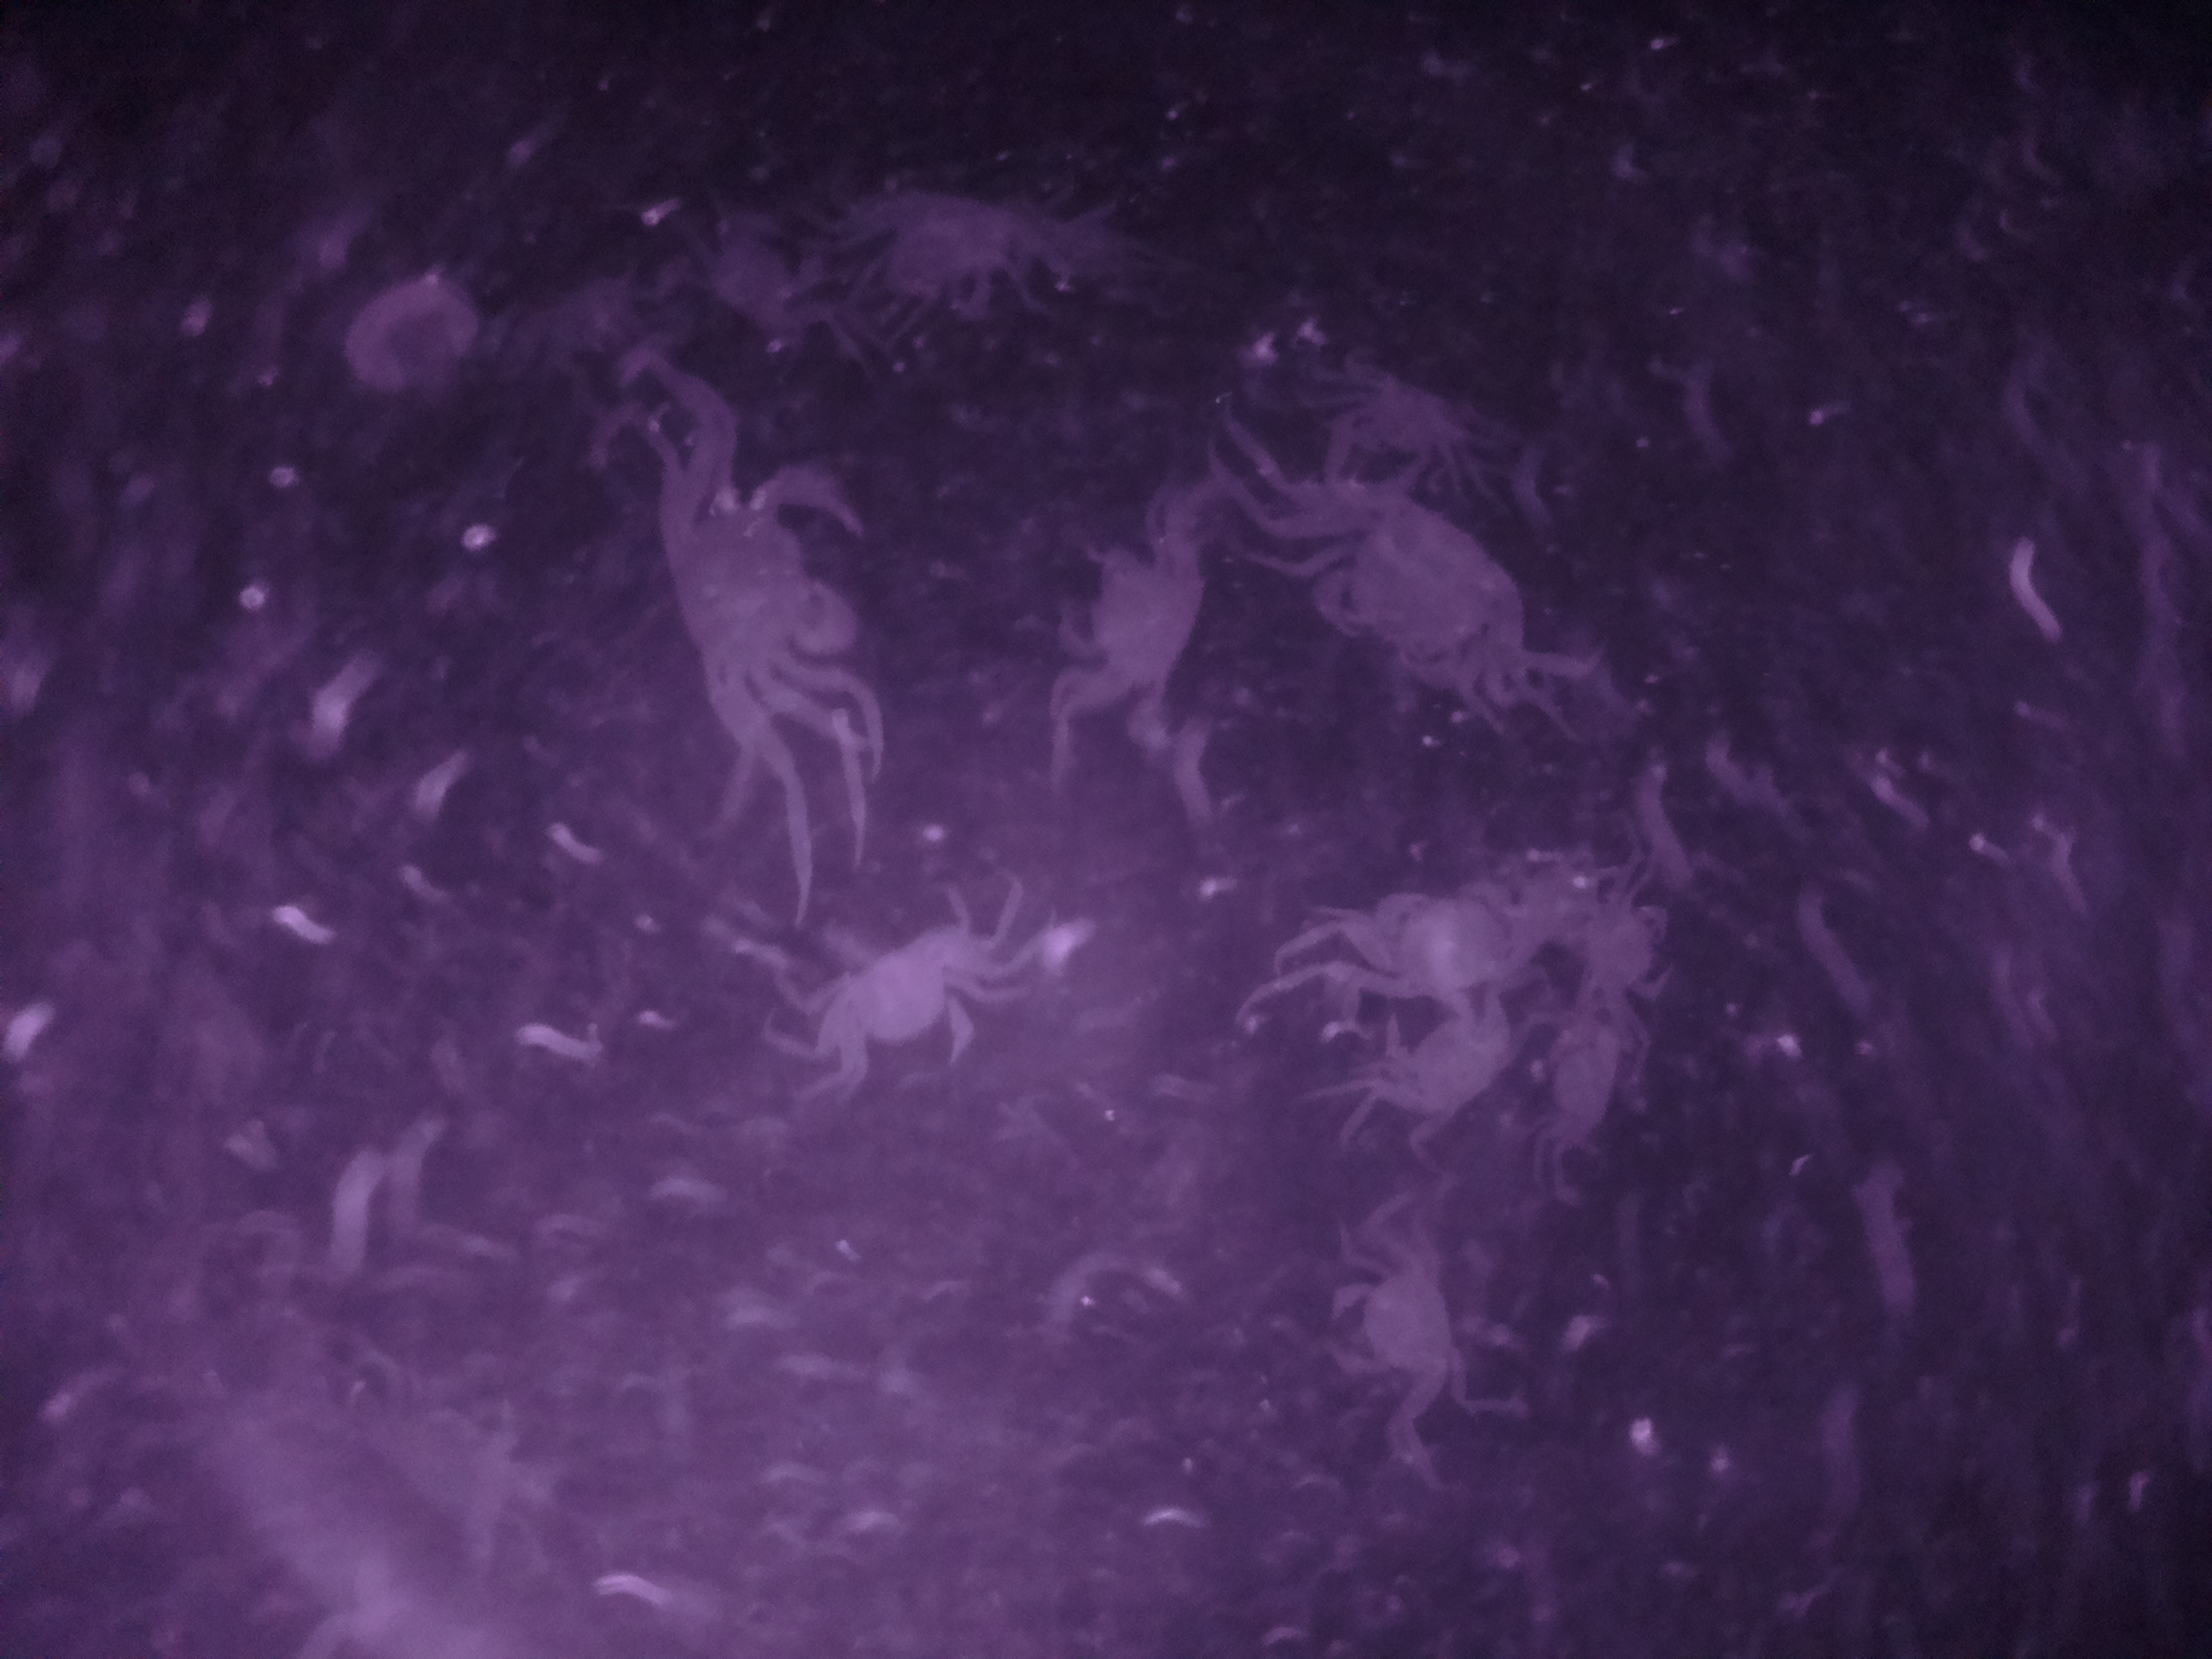Crab: (1278, 476, 1571, 701), (658, 450, 873, 718), (1357, 962, 1529, 1150), (812, 920, 998, 1087), (1315, 1229, 1467, 1419)
